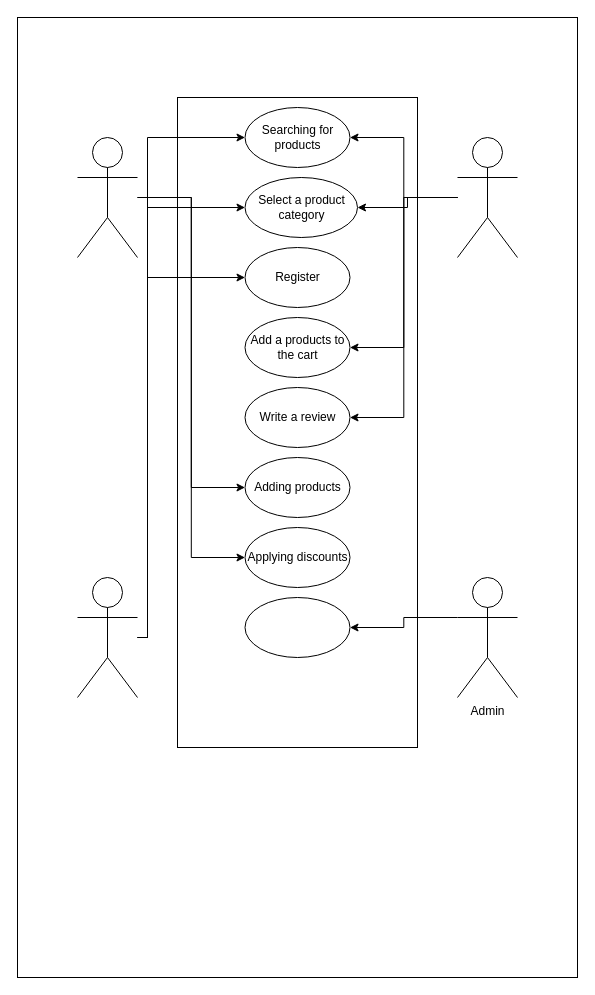
Some shapes in this 595 by 995 pixel diagram are drawn without their labels. Each missing label, with the box of its shape:
Approving accounts: (244, 596, 350, 658)
Buyer: (456, 136, 518, 258)
Seller: (76, 136, 138, 258)
Viewer: (76, 576, 138, 698)
